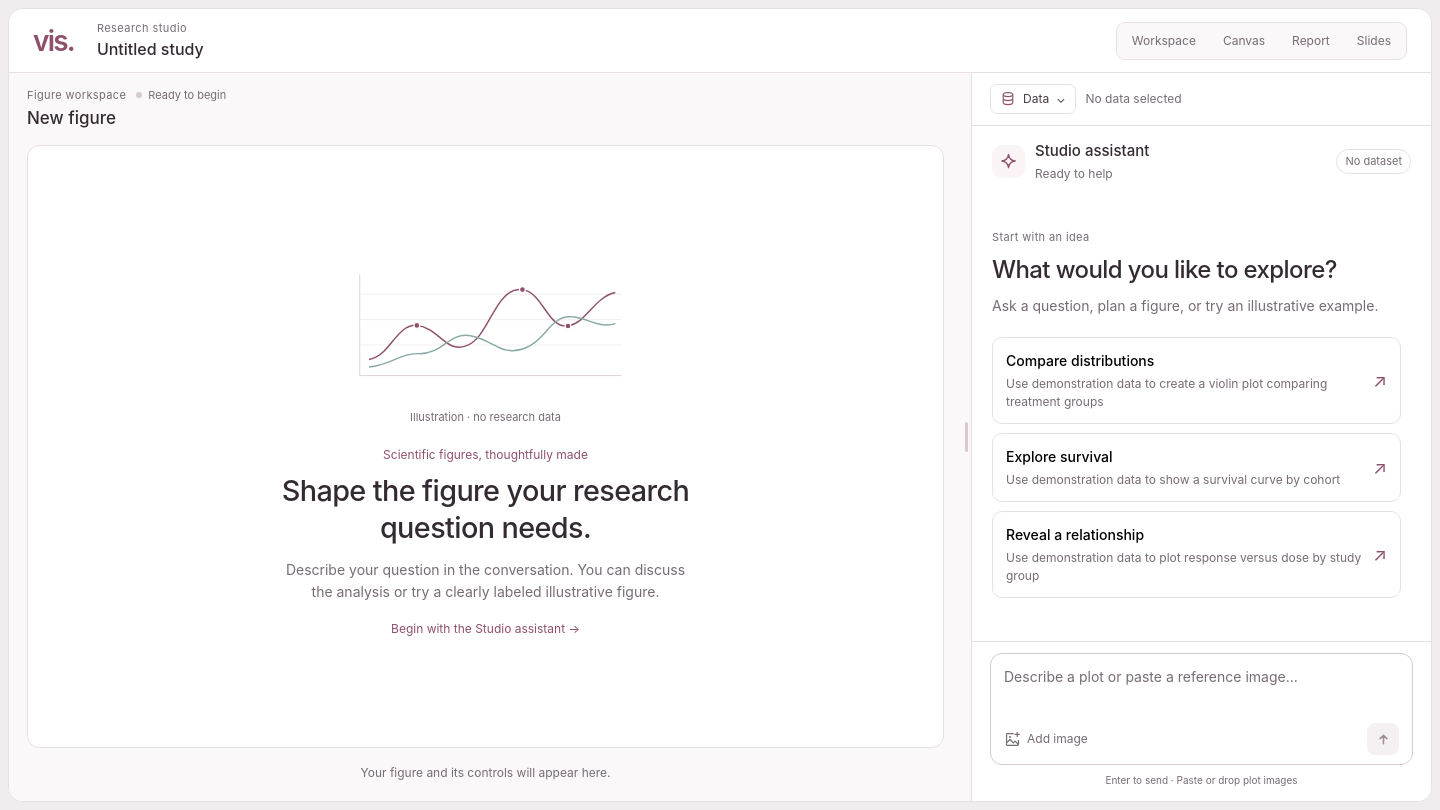
Test case: a social reply does not start plotting
In the text box named "Describe the plot you want": (1202, 690) [1004,666,1399,714], type "how are you?"
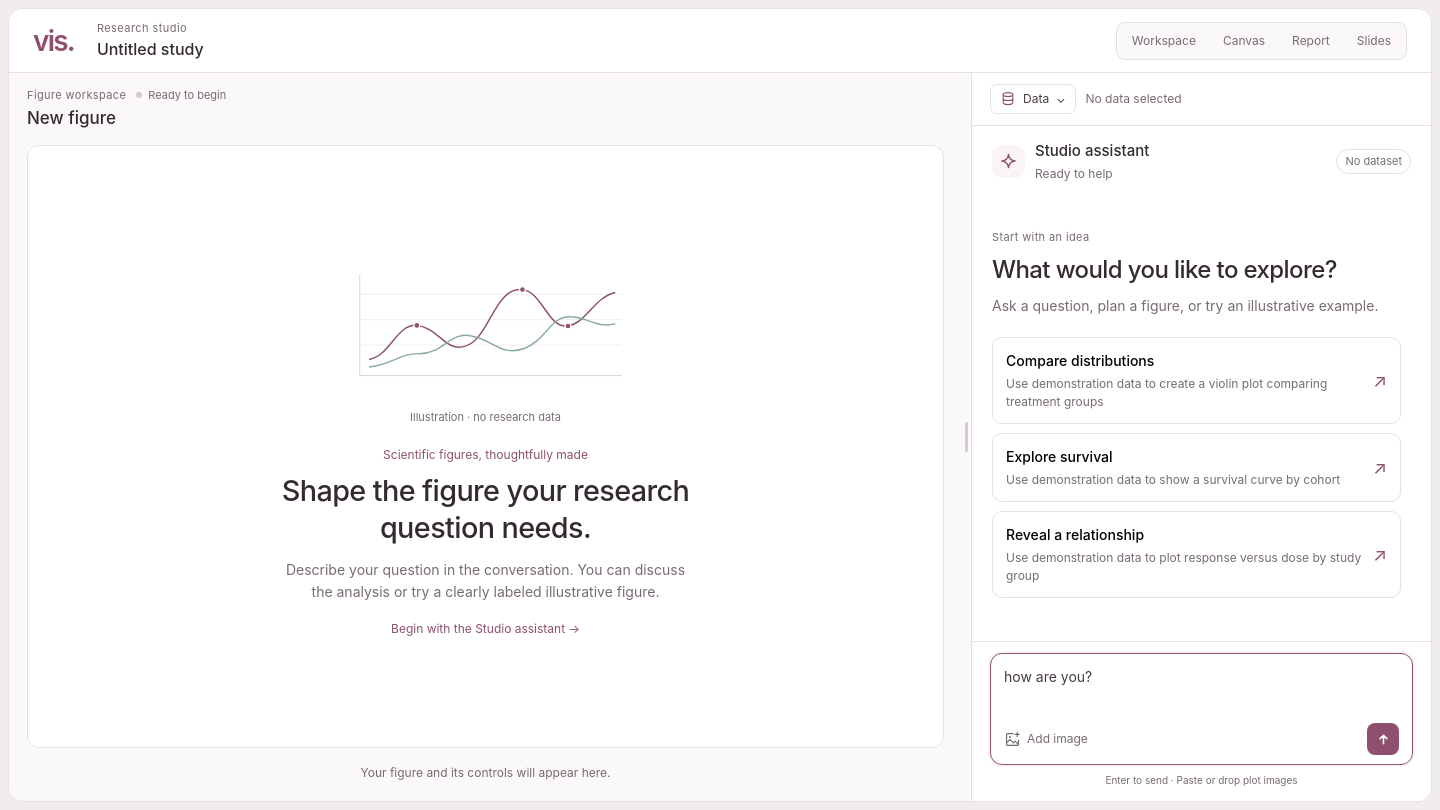
Click the button named "Send": (1383, 739) [1367,723,1399,755]
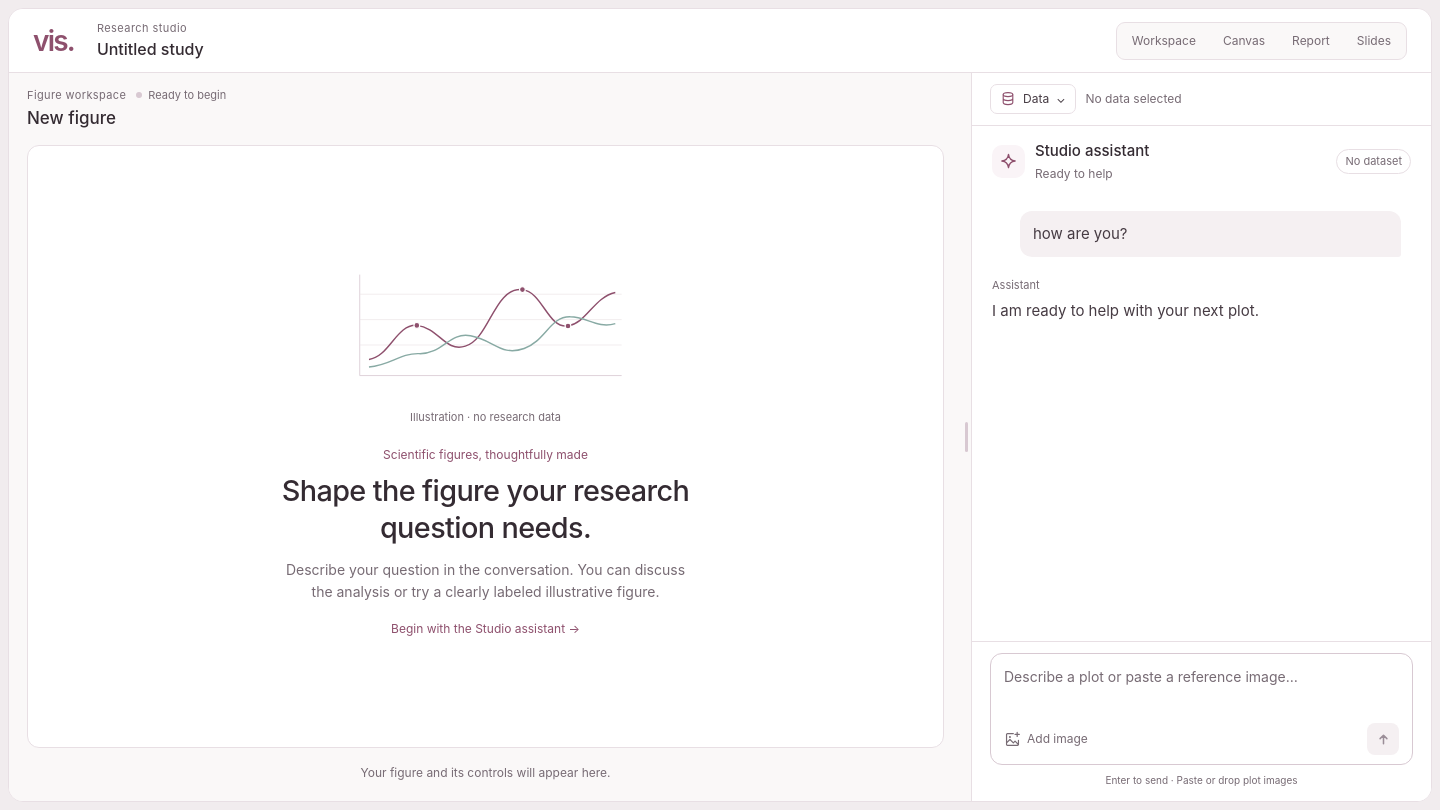
Expected: the heading "Shape the figure your research question needs." is shown, [274,472,697,546]
Result: the text "I am ready to help with your next plot." is shown at [992,301,1259,320]
